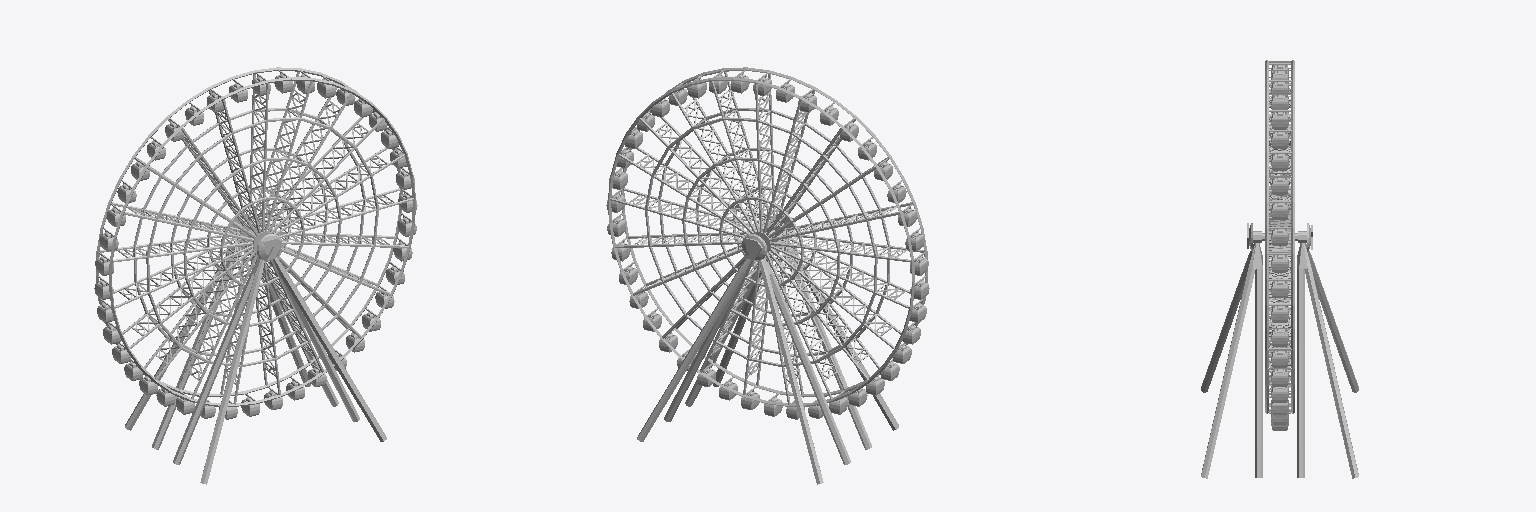
The model's file is FerrisWheel.obj.
3 renders of one model, left to right at view 1: azimuth 30°, elevation 25°; view 2: azimuth 150°, elevation 25°; view 3: azimuth 270°, elevation 25°, orthographic.
Parts seen in each view (by area): view 1: 7logo; view 2: 7logo; view 3: 7logo.
Boxes of the visible parts, x1=… form: 7logo: x1=94, y1=67, x2=417, y2=484; 7logo: x1=606, y1=67, x2=929, y2=484; 7logo: x1=1201, y1=60, x2=1358, y2=478.
Size of the model in its own units: 84.81 by 92.59 by 37.14.